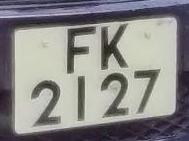1: (65, 71, 95, 126)
2: (22, 71, 68, 133), (94, 66, 137, 120)
7: (131, 61, 165, 117)
F: (53, 23, 100, 79)
K: (97, 22, 135, 73)
